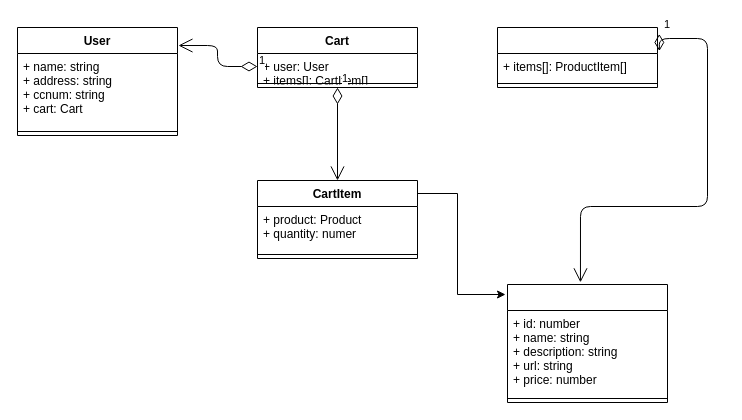
This 742x420 diagram has some shape labels left out. The box of each missing label's shape, as (x1, y1, x2, y2) in pixels:
Product: (506, 284, 668, 402)
Product List: (496, 26, 658, 88)
